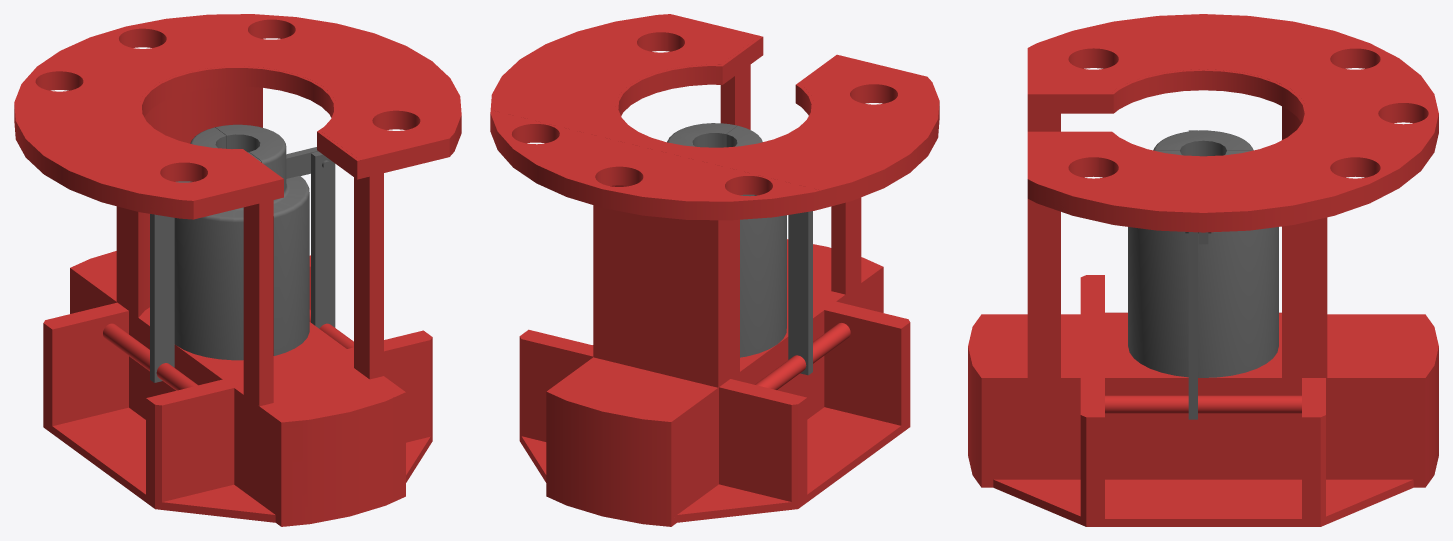
File: Cunha.fbx
The picture shows the model from 3 angles, left to right: view 1: azimuth 30°, elevation 25°; view 2: azimuth 150°, elevation 25°; view 3: azimuth 270°, elevation 25°; orthographic projection. The views are drawn at different scales.
Visible parts, largest first — view 1: Corpo, Cunha_Esquerda, Cunha_Direita; view 2: Corpo, Cunha_Esquerda, Cunha_Direita; view 3: Corpo, Cunha_Direita, Cunha_Esquerda.
Boxes of the visible parts, <box> form: Corpo: <box>14,14,461,526</box>; Cunha_Esquerda: <box>150,127,260,382</box>; Cunha_Direita: <box>215,124,335,355</box>; Corpo: <box>490,14,939,526</box>; Cunha_Esquerda: <box>726,125,812,375</box>; Cunha_Direita: <box>667,123,737,147</box>; Corpo: <box>968,14,1438,526</box>; Cunha_Direita: <box>1128,151,1278,419</box>; Cunha_Esquerda: <box>1153,130,1253,156</box>.
Size of the model in its own units: 60 by 48.14 by 60.
